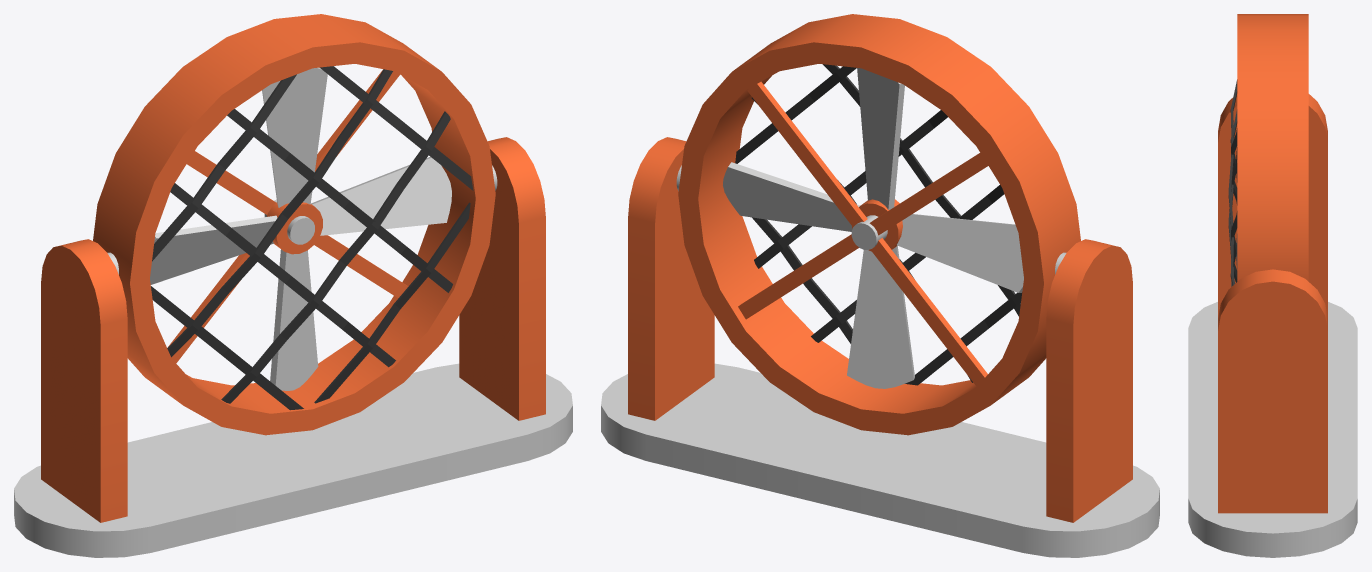
File: Ventilator B.fbx
The picture shows the model from 3 angles, left to right: view 1: azimuth 30°, elevation 25°; view 2: azimuth 150°, elevation 25°; view 3: azimuth 270°, elevation 25°; orthographic projection. The views are drawn at different scales.
Visible parts, largest first — view 1: Ventilator B Stand, Ventilator B, Ventilator B.001, Grid Ventilator B; view 2: Ventilator B Stand, Ventilator B, Ventilator B.001, Grid Ventilator B; view 3: Ventilator B Stand, Ventilator B, Grid Ventilator B.
Boxes of the visible parts, left/top/right/bottom form: Ventilator B Stand: left=14, top=137, right=572, bottom=557; Ventilator B: left=93, top=14, right=497, bottom=435; Ventilator B.001: left=150, top=67, right=451, bottom=390; Grid Ventilator B: left=151, top=66, right=473, bottom=410; Ventilator B Stand: left=601, top=137, right=1159, bottom=557; Ventilator B: left=676, top=14, right=1080, bottom=435; Ventilator B.001: left=723, top=68, right=1023, bottom=388; Grid Ventilator B: left=735, top=64, right=1022, bottom=385; Ventilator B Stand: left=1188, top=94, right=1357, bottom=557; Ventilator B: left=1237, top=14, right=1308, bottom=281; Grid Ventilator B: left=1228, top=79, right=1237, bottom=286.
Bounding box in the file's own units: 259 × 203 × 76.93.
